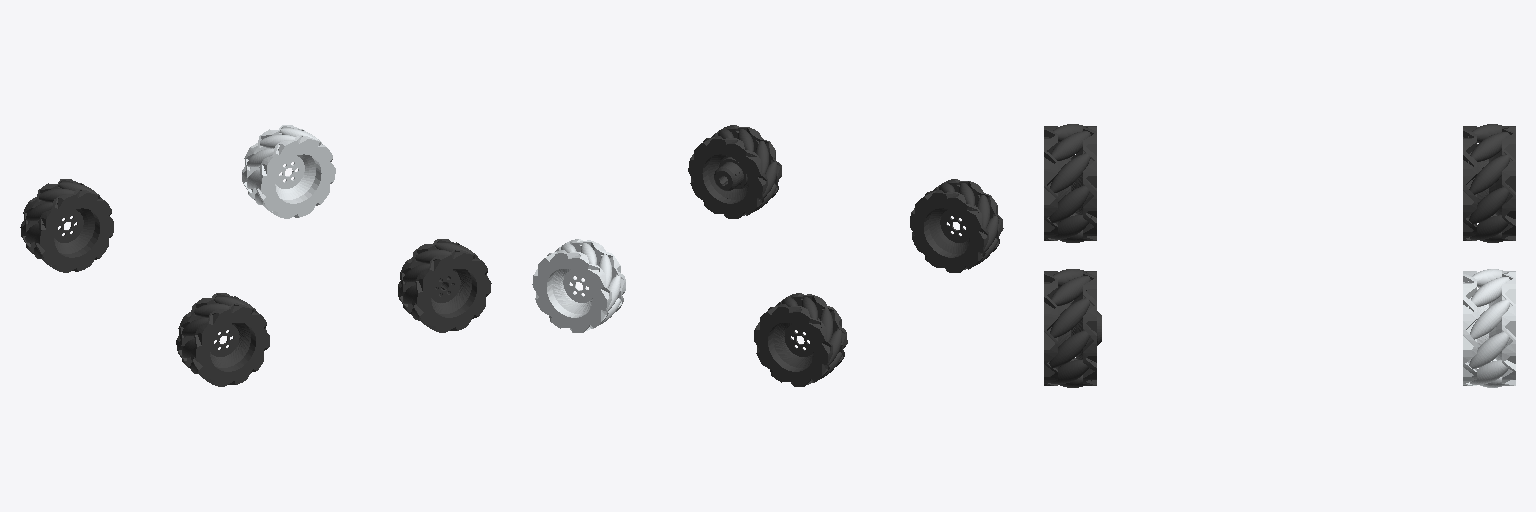
robot.urdf — mrobot0:
<?xml version="1.0" encoding="utf-8"?>
<!-- This URDF was automatically created by SolidWorks to URDF Exporter! Originally created by [author] ([email redacted]) 
     Commit Version: 1.6.0-4-g7f85cfe  Build Version: 1.6.7995.38578
     For more information, please see http://wiki.ros.org/sw_urdf_exporter -->
<robot
  name="mrobot0">
  <link
    name="base_link">
    <inertial>
      <origin
        xyz="0 0 0"
        rpy="0 0 0" />
      <mass
        value="18.4562925765378" />
      <inertia
        ixx="0.256210728643185"
        ixy="6.56310068382338E-05"
        ixz="-0.00180877112495313"
        iyy="0.188299729850926"
        iyz="-2.10390967866862E-05"
        izz="0.145737478909493" />
    </inertial>
    <visual>
      <origin
        xyz="0 0 0"
        rpy="0 0 0" />
      <geometry>
        <mesh
          filename="package://mrobot0/meshes/base_link.STL" />
      </geometry>
      <material
        name="">
        <color
          rgba="0.152941176470588 1 0.596078431372549 1" />
      </material>
    </visual>
    <collision>
      <origin
        xyz="0 0 0"
        rpy="0 0 0" />
      <geometry>
        <mesh
          filename="package://mrobot0/meshes/base_link.STL" />
      </geometry>
    </collision>
  </link>
  <link
    name="front_right_link">
    <inertial>
      <origin
        xyz="-5.13024805970375E-08 -0.00877234222415185 6.89433152897823E-06"
        rpy="0 0 0" />
      <mass
        value="0.416037886047751" />
      <inertia
        ixx="0.000256520186506121"
        ixy="4.61385776440554E-10"
        ixz="3.98079279974602E-10"
        iyy="0.000479257131749694"
        iyz="-4.26781001354178E-09"
        izz="0.000256542673895954" />
    </inertial>
    <visual>
      <origin
        xyz="0 0 0"
        rpy="0 0 0" />
      <geometry>
        <mesh
          filename="package://mrobot0/meshes/front_right_link.STL" />
      </geometry>
      <material
        name="">
        <color
          rgba="0.298039215686275 0.298039215686275 0.298039215686275 1" />
      </material>
    </visual>
    <collision>
      <origin
        xyz="0 0 0"
        rpy="0 0 0" />
      <geometry>
        <mesh
          filename="package://mrobot0/meshes/front_right_link.STL" />
      </geometry>
    </collision>
  </link>
  <joint
    name="front_right_joint"
    type="continuous">
    <origin
      xyz="0.14942 -0.17343 -0.3725"
      rpy="0 0 0" />
    <parent
      link="base_link" />
    <child
      link="front_right_link" />
    <axis
      xyz="0 1 0" />
    <limit
      effort="10000"
      velocity="100" />
  </joint>
  <link
    name="front_left_link">
    <inertial>
      <origin
        xyz="5.76423534737192E-08 0.0101315333235539 2.90000992594908E-08"
        rpy="0 0 0" />
      <mass
        value="0.370238645739765" />
      <inertia
        ixx="0.000250201173071859"
        ixy="4.61362866003811E-10"
        ixz="-3.98072218436982E-10"
        iyy="0.000471946895325548"
        iyz="1.76423567462717E-10"
        izz="0.000250204831386972" />
    </inertial>
    <visual>
      <origin
        xyz="0 0 0"
        rpy="0 0 0" />
      <geometry>
        <mesh
          filename="package://mrobot0/meshes/front_left_link.STL" />
      </geometry>
      <material
        name="">
        <color
          rgba="0.898039215686275 0.917647058823529 0.929411764705882 1" />
      </material>
    </visual>
    <collision>
      <origin
        xyz="0 0 0"
        rpy="0 0 0" />
      <geometry>
        <mesh
          filename="package://mrobot0/meshes/front_left_link.STL" />
      </geometry>
    </collision>
  </link>
  <joint
    name="front_left_joint"
    type="continuous">
    <origin
      xyz="0.14942 0.17245 -0.3725"
      rpy="0 0 0" />
    <parent
      link="base_link" />
    <child
      link="front_left_link" />
    <axis
      xyz="0 1 0" />
    <limit
      effort="10000"
      velocity="100" />
  </joint>
  <link
    name="back_right_link">
    <inertial>
      <origin
        xyz="-5.7642353418208E-08 -0.356012658547887 2.90000992733686E-08"
        rpy="0 0 0" />
      <mass
        value="0.370238645739766" />
      <inertia
        ixx="0.000250201173071859"
        ixy="4.61362865957737E-10"
        ixz="3.98072218445388E-10"
        iyy="0.000471946895325548"
        iyz="-1.76423566737926E-10"
        izz="0.000250204831386972" />
    </inertial>
    <visual>
      <origin
        xyz="0 0 0"
        rpy="0 0 0" />
      <geometry>
        <mesh
          filename="package://mrobot0/meshes/back_right_link.STL" />
      </geometry>
      <material
        name="">
        <color
          rgba="0.298039215686275 0.298039215686275 0.298039215686275 1" />
      </material>
    </visual>
    <collision>
      <origin
        xyz="0 0 0"
        rpy="0 0 0" />
      <geometry>
        <mesh
          filename="package://mrobot0/meshes/back_right_link.STL" />
      </geometry>
    </collision>
  </link>
  <joint
    name="back_right_joint"
    type="continuous">
    <origin
      xyz="-0.15058 0.17245 -0.3725"
      rpy="0 0 0" />
    <parent
      link="base_link" />
    <child
      link="back_right_link" />
    <axis
      xyz="0 1 0" />
    <limit
      effort="10000"
      velocity="100" />
  </joint>
  <link
    name="back_left_link">
    <inertial>
      <origin
        xyz="5.76423534459636E-08 0.356012658547887 2.90000992386741E-08"
        rpy="0 0 0" />
      <mass
        value="0.370238645739765" />
      <inertia
        ixx="0.000250201173071859"
        ixy="4.61362865920627E-10"
        ixz="-3.98072218318611E-10"
        iyy="0.000471946895325548"
        iyz="1.76423566788219E-10"
        izz="0.000250204831386972" />
    </inertial>
    <visual>
      <origin
        xyz="0 0 0"
        rpy="0 0 0" />
      <geometry>
        <mesh
          filename="package://mrobot0/meshes/back_left_link.STL" />
      </geometry>
      <material
        name="">
        <color
          rgba="0.298039215686275 0.298039215686275 0.298039215686275 1" />
      </material>
    </visual>
    <collision>
      <origin
        xyz="0 0 0"
        rpy="0 0 0" />
      <geometry>
        <mesh
          filename="package://mrobot0/meshes/back_left_link.STL" />
      </geometry>
    </collision>
  </link>
  <joint
    name="back_left_joint"
    type="continuous">
    <origin
      xyz="-0.15058 -0.17343 -0.3725"
      rpy="0 0 0" />
    <parent
      link="base_link" />
    <child
      link="back_left_link" />
    <axis
      xyz="0 1 0" />
    <limit
      effort="10000"
      velocity="100" />
  </joint>
<gazebo reference="front_left_link">
      <mu1 value="200.0"/>
      <mu2 value="100.0"/>
      <kp value="10000000.0" />
      <kd value="1.0" />
      <material>Gazebo/Grey</material>
    </gazebo>
<gazebo reference="front_right_link">
      <mu1 value="200.0"/>
      <mu2 value="100.0"/>
      <kp value="10000000.0" />
      <kd value="1.0" />
      <material>Gazebo/Grey</material>
    </gazebo>
<gazebo reference="back_left_link">
      <mu1 value="200.0"/>
      <mu2 value="100.0"/>
      <kp value="10000000.0" />
      <kd value="1.0" />
      <material>Gazebo/Grey</material>
    </gazebo>
<gazebo reference="back_right_link">
      <mu1 value="200.0"/>
      <mu2 value="100.0"/>
      <kp value="10000000.0" />
      <kd value="1.0" />
      <material>Gazebo/Grey</material>
    </gazebo>
<gazebo>
  <plugin name="skid_steer_drive_controller" filename="libgazebo_ros_skid_steer_drive.so">
    <updateRate>100.0</updateRate>
    <robotNamespace>/</robotNamespace>
    <leftFrontJoint>front_left_joint</leftFrontJoint>
    <rightFrontJoint>front_right_joint</rightFrontJoint>
    <leftRearJoint>back_left_joint</leftRearJoint>
    <rightRearJoint>back_right_joint</rightRearJoint>
    <wheelSeparation>0.3</wheelSeparation>
    <wheelDiameter>0.12</wheelDiameter>
    <robotBaseFrame>base_link</robotBaseFrame>
    <torque>20</torque>
    <topicName>cmd_vel</topicName>
    <broadcastTF>false</broadcastTF>
  </plugin>
</gazebo>


</robot>

--- What the picture shows (computed from the rendered views, not written in the file) ---
The picture shows the robot from 3 angles, left to right: view 1: azimuth 30°, elevation 25°; view 2: azimuth 150°, elevation 25°; view 3: azimuth 270°, elevation 25°; orthographic projection.
Model mrobot0 with 5 links and 4 joints (4 continuous), rooted at base_link, posed all joints at 0.
Links seen in each view (by area): view 1: front_right_link, front_left_link, back_left_link, back_right_link; view 2: front_right_link, back_right_link, front_left_link, back_left_link; view 3: front_right_link, back_right_link, front_left_link, back_left_link.
Boxes of the visible links, <box> form: front_right_link: <box>398,239,491,332</box>; front_left_link: <box>242,125,335,218</box>; back_left_link: <box>20,179,113,272</box>; back_right_link: <box>176,293,269,386</box>; front_right_link: <box>688,125,781,218</box>; back_right_link: <box>910,179,1003,272</box>; front_left_link: <box>532,239,625,332</box>; back_left_link: <box>754,293,847,386</box>; front_right_link: <box>1044,269,1101,387</box>; back_right_link: <box>1044,124,1096,242</box>; front_left_link: <box>1463,269,1515,387</box>; back_left_link: <box>1463,124,1515,242</box>.
Bounding box of the posed robot: 0.4047 × 0.4122 × 0.1027 m (x, y, z).
Meshes: 5 distinct files referenced, 4 mesh visuals loaded (4 binary STL); not drawn: 1 (reference not matched to a file when rendering).
